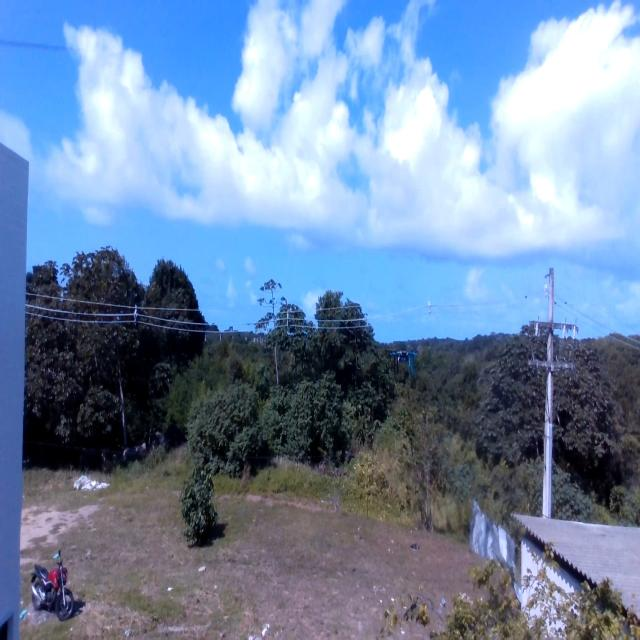-uav-: (383, 332, 424, 391)
